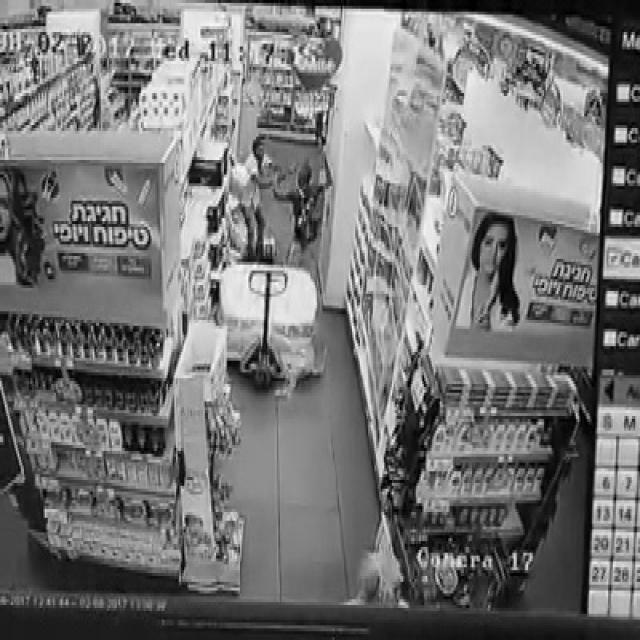weapon: (318, 128, 322, 146)
